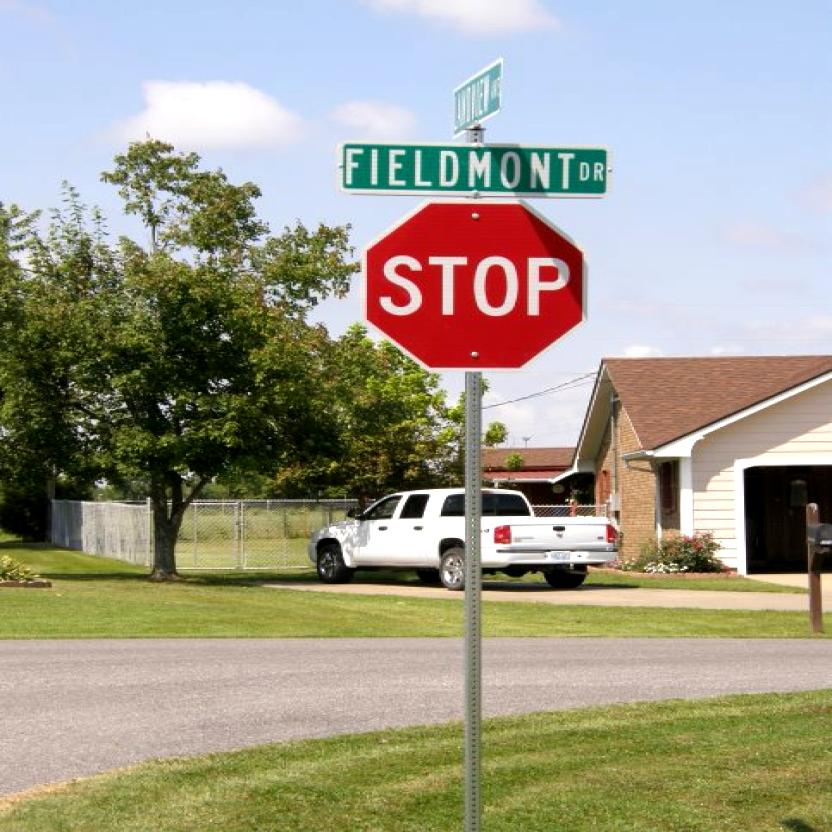Pole: (464, 380, 482, 830)
Sign: (357, 197, 589, 374)
